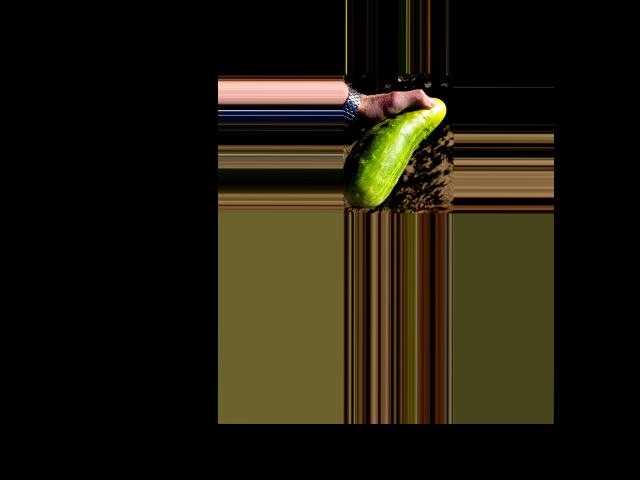cucumber: (342, 97, 446, 209)
